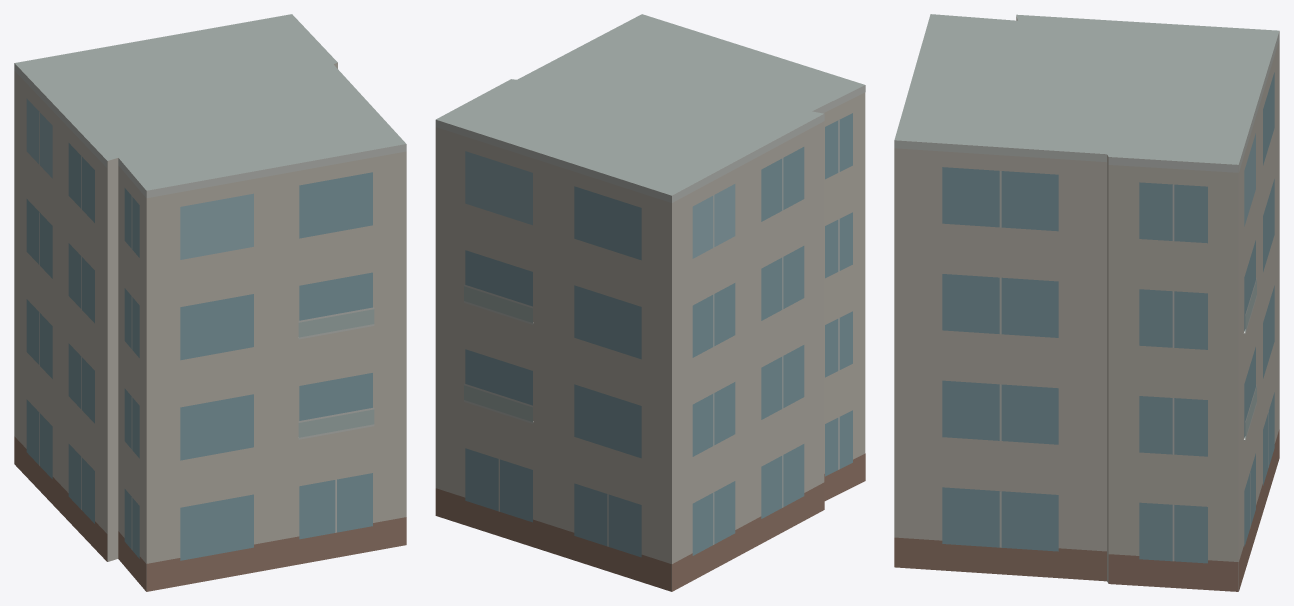
File: survey-upis-33014871.glb
The picture shows the model from 3 angles, left to right: view 1: azimuth 30°, elevation 25°; view 2: azimuth 150°, elevation 25°; view 3: azimuth 270°, elevation 25°; orthographic projection. The views are drawn at different scales.
Parts seen in each view (by area): view 1: survey-upis-33014871.tmp; view 2: survey-upis-33014871.tmp; view 3: survey-upis-33014871.tmp.
Boxes of the visible parts, x1,y1,x2,y2 form: survey-upis-33014871.tmp: (14, 14, 406, 591); survey-upis-33014871.tmp: (435, 14, 865, 591); survey-upis-33014871.tmp: (894, 14, 1279, 591).
Size of the model in its own units: 9.9 by 13.05 by 10.68.
